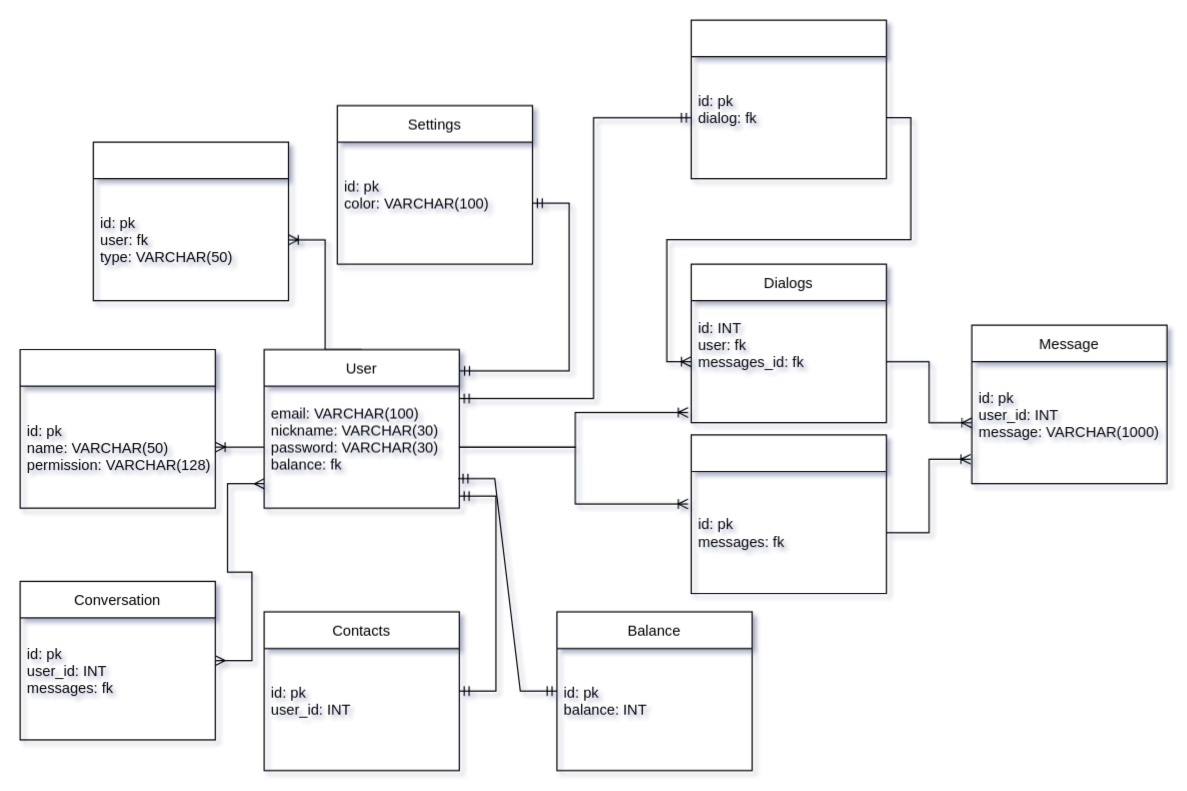
The diagram is 1187 pixels wide and 791 high, and some of its shapes have lost their labels. The shapes that lost their labels are listed below. From the top down, each one's box as (x1, y1, x2, y2) in pixels, then its label:
(690, 19, 886, 179): Archive
(92, 141, 289, 301): Logs
(19, 348, 215, 508): Roles
(690, 434, 886, 594): Favorite messages
